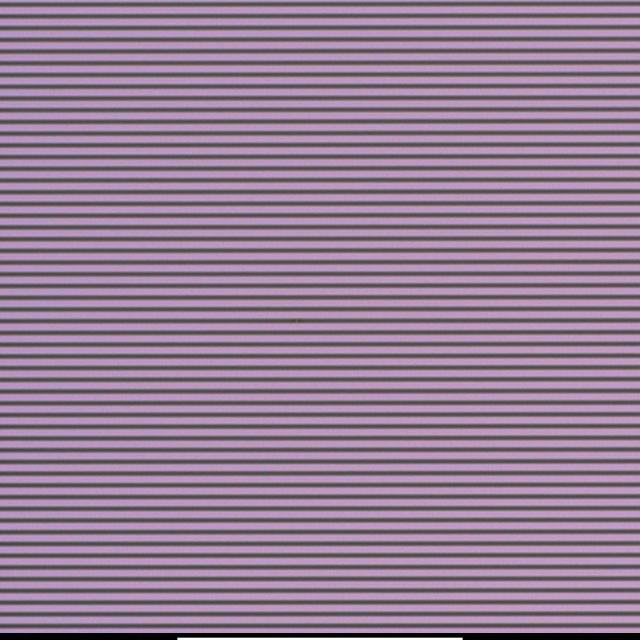03_intrusion: (292, 317, 301, 327)
